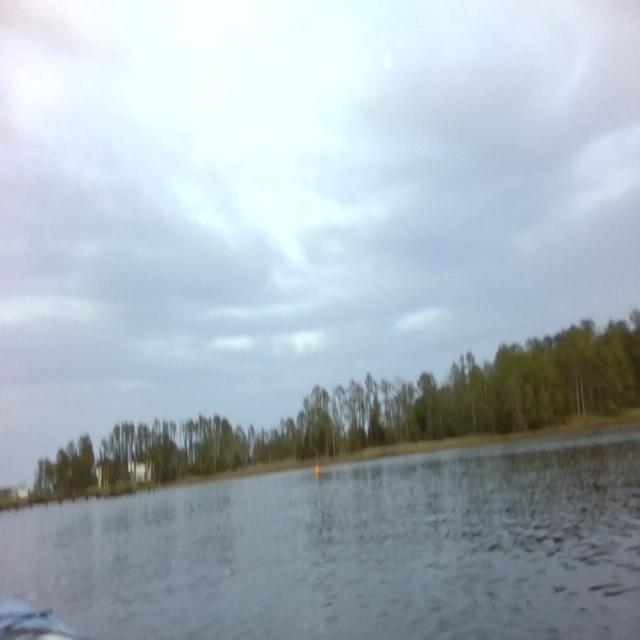Buoy: (314, 463, 322, 476)
